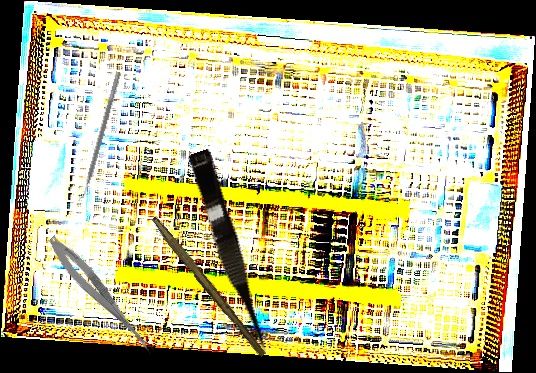Micro Scissor: (183, 148, 275, 357), (42, 231, 162, 358)
Scalpel Handle: (146, 215, 270, 359)
Spatula Surgical: (75, 69, 122, 204)
